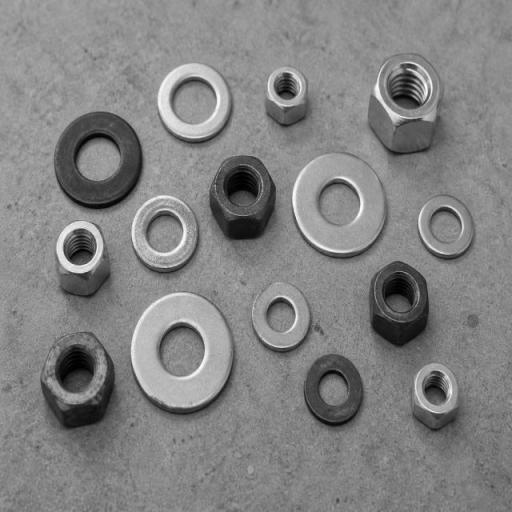Nut: (367, 51, 443, 155), (40, 330, 116, 430), (209, 154, 277, 242), (369, 260, 429, 348), (54, 219, 111, 298), (410, 361, 461, 433), (264, 64, 310, 128)
Washer: (129, 290, 235, 415), (291, 152, 387, 258), (53, 110, 144, 209), (156, 62, 233, 143), (130, 194, 199, 273), (302, 352, 365, 427), (251, 281, 312, 352), (416, 193, 476, 261)
